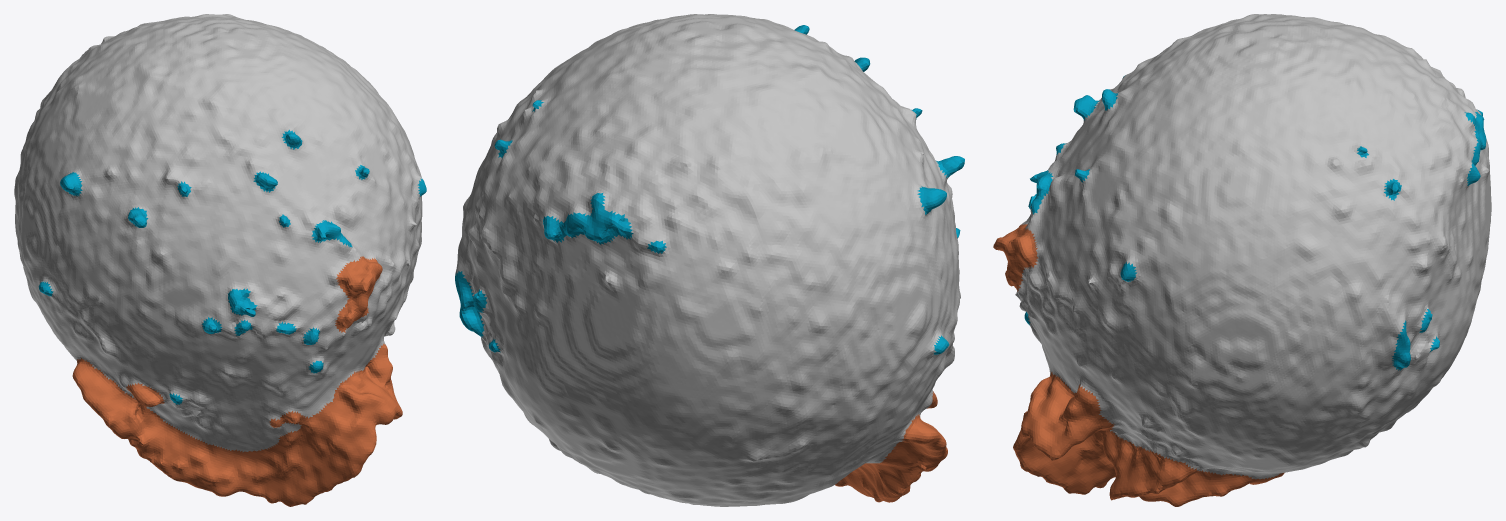
3 views of the same model, side by side, from view 1: azimuth 30°, elevation 25°; view 2: azimuth 150°, elevation 25°; view 3: azimuth 270°, elevation 25° (orthographic). The views are drawn at different scales.
Size of the model in its own units: 126 by 137 by 134.
